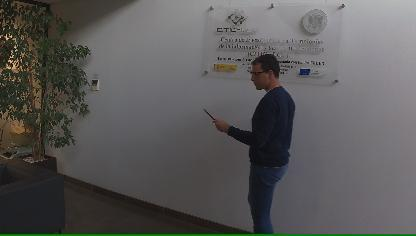knife: (200, 104, 219, 124)
